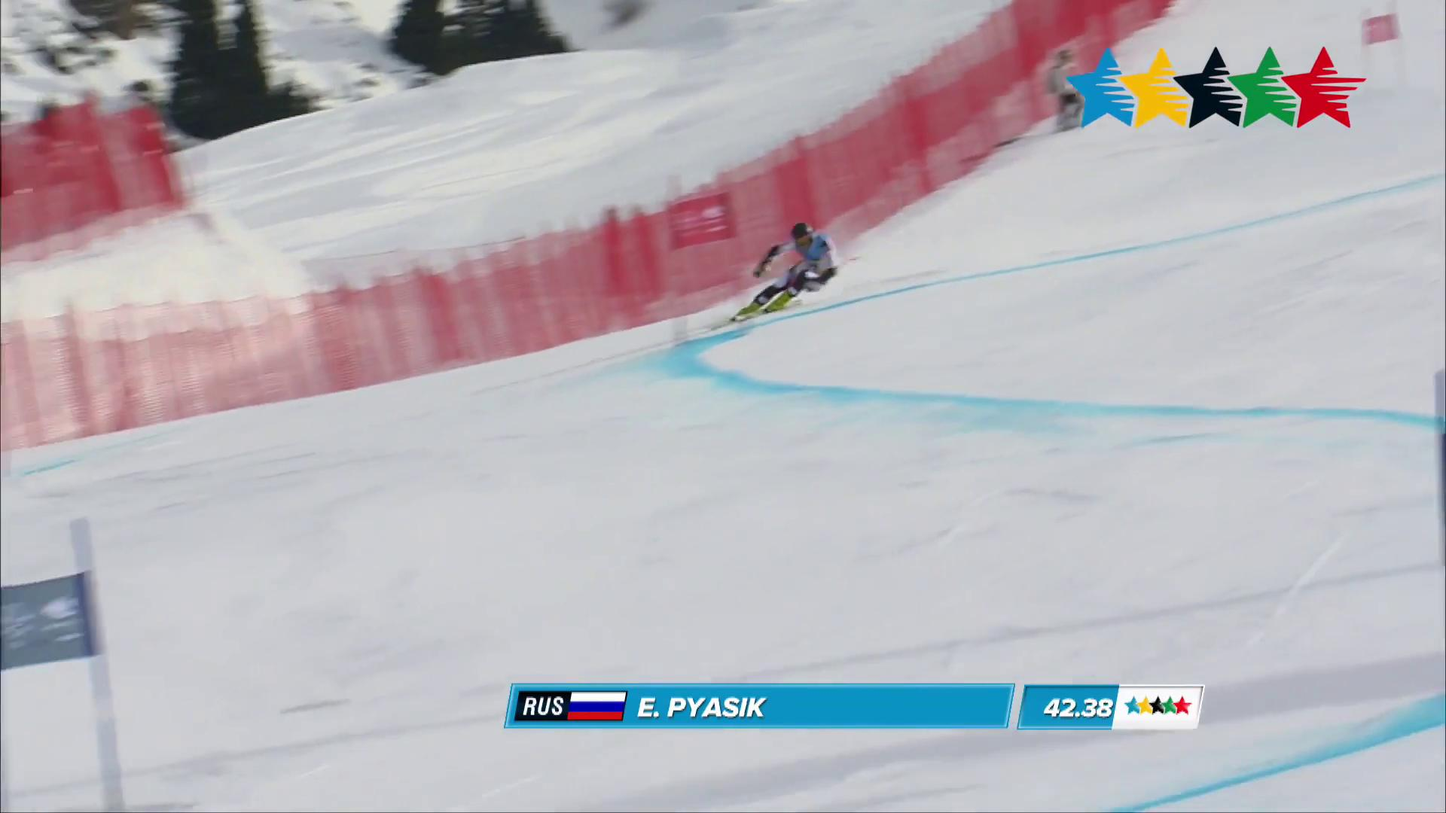gate: (0, 518, 103, 672), (91, 659, 123, 806)
